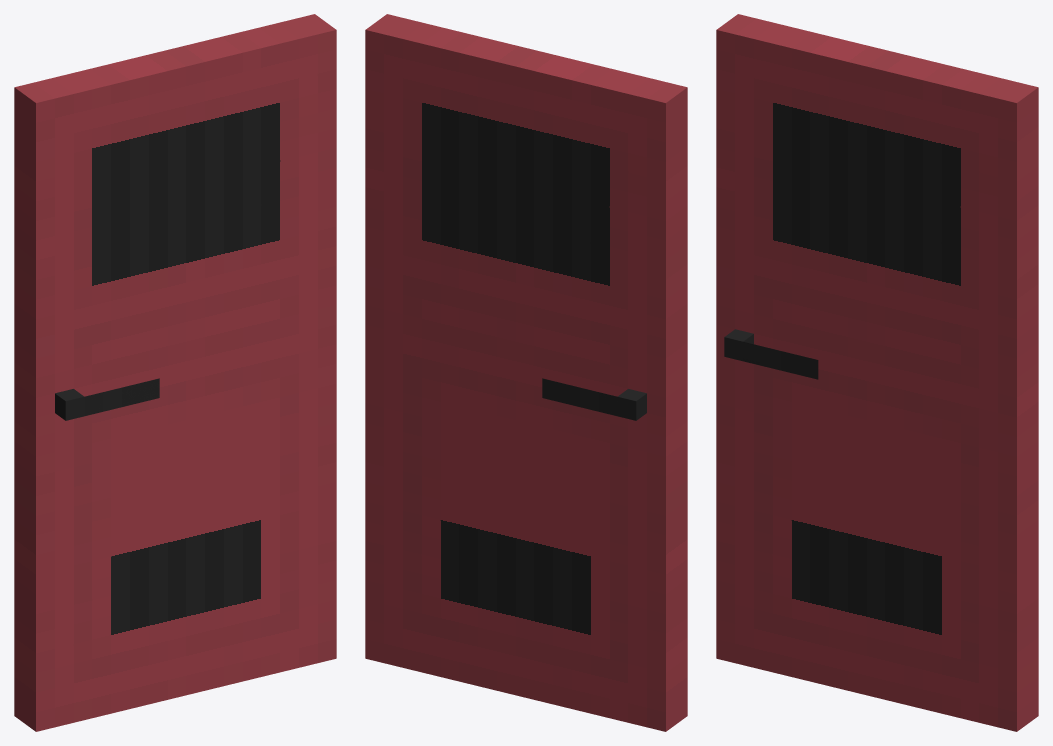
The model's file is Close.obj.
The picture shows the model from 3 angles, left to right: view 1: azimuth 30°, elevation 25°; view 2: azimuth 150°, elevation 25°; view 3: azimuth 330°, elevation 25°; orthographic projection.
Parts seen in each view (by area): view 1: cube; view 2: cube; view 3: cube.
Part boxes in pixels (x1,y1,x2,y2): cube: [14, 14, 336, 731]; cube: [365, 14, 687, 731]; cube: [716, 14, 1038, 731].
Bounding box in the file's own units: 1 × 2 × 0.25.
